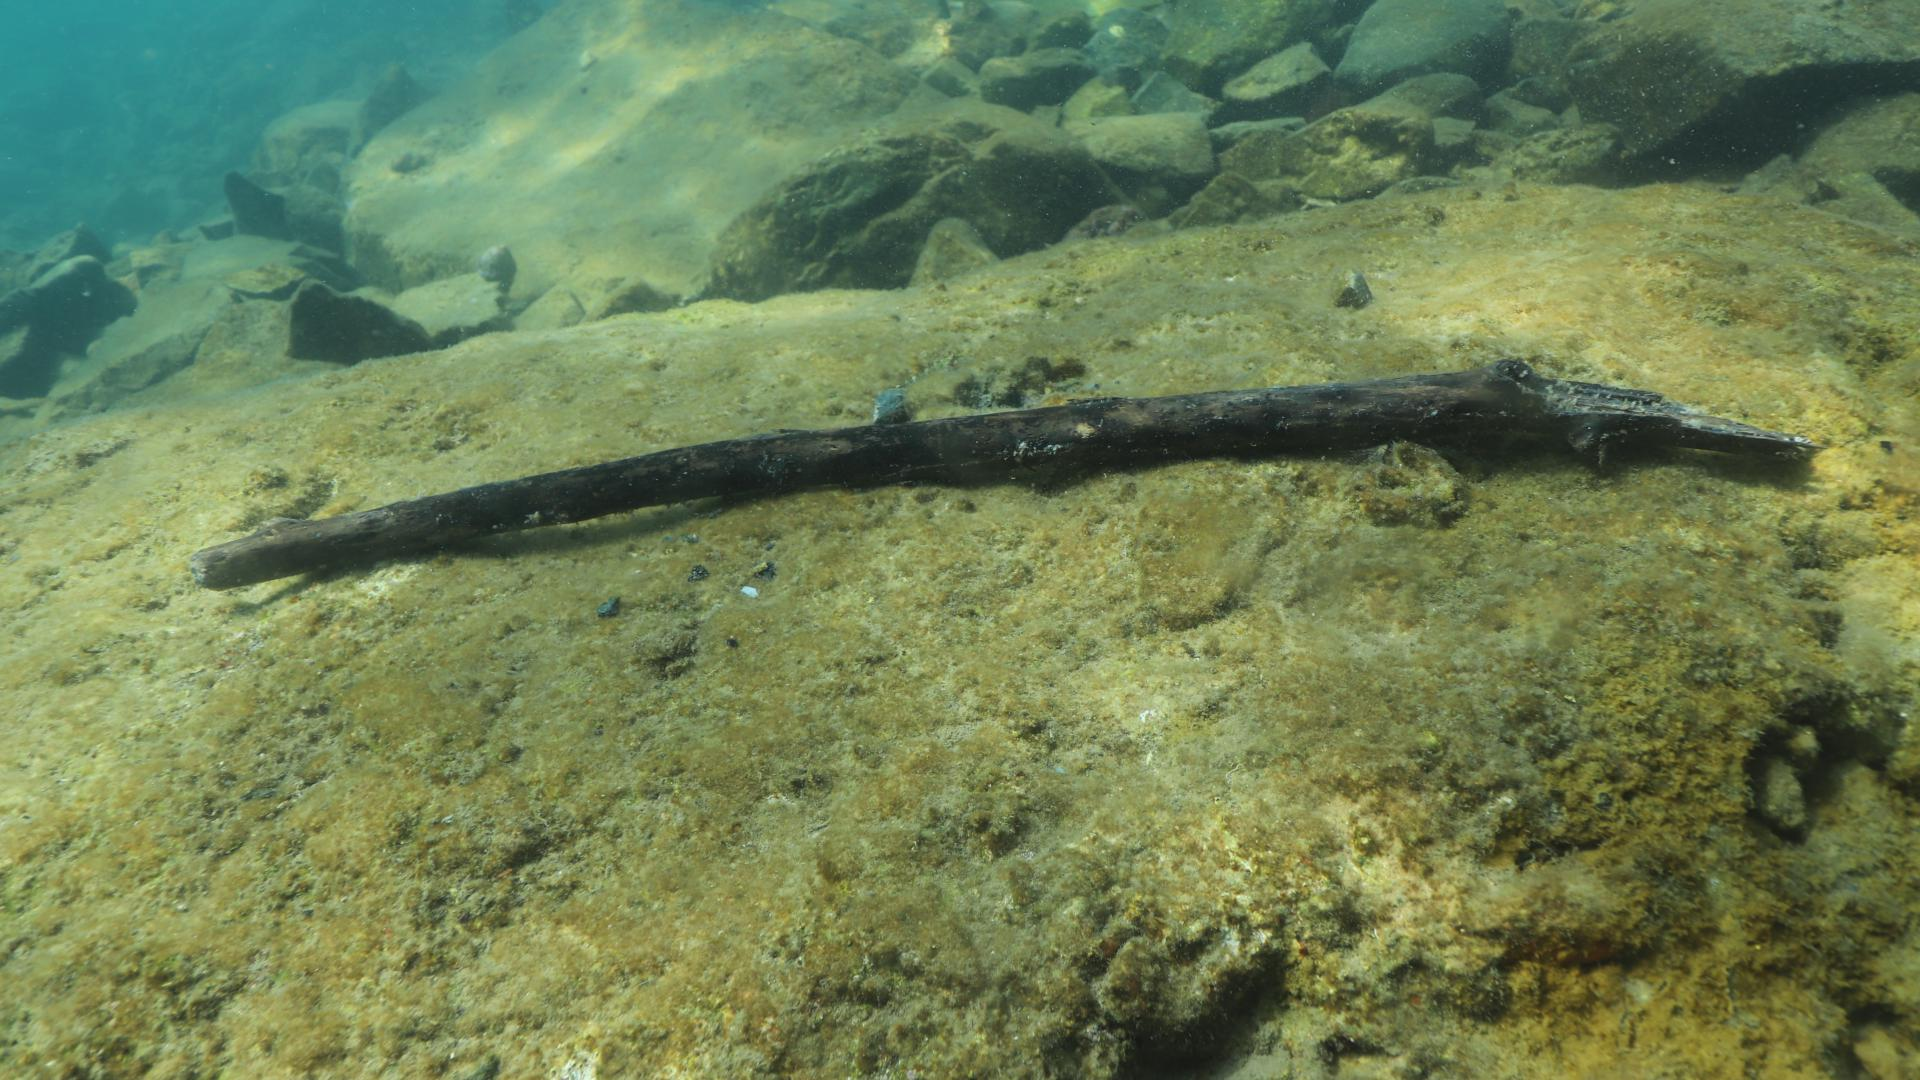wood: (187, 352, 1822, 591)
